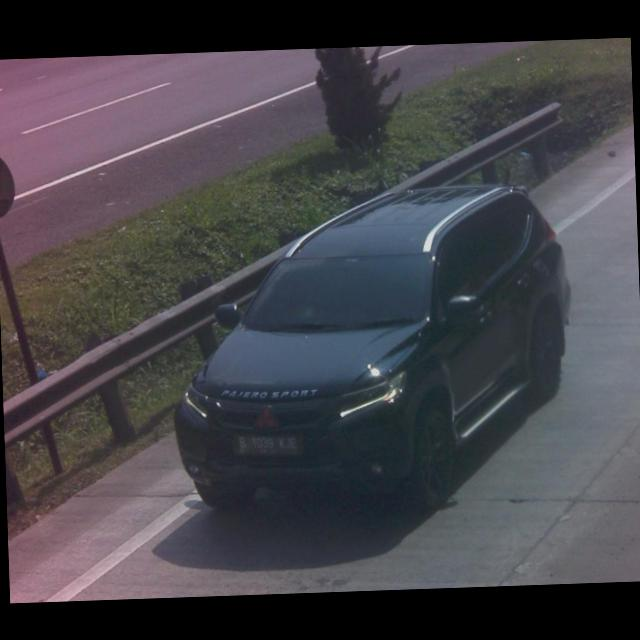plate: (230, 430, 303, 458)
